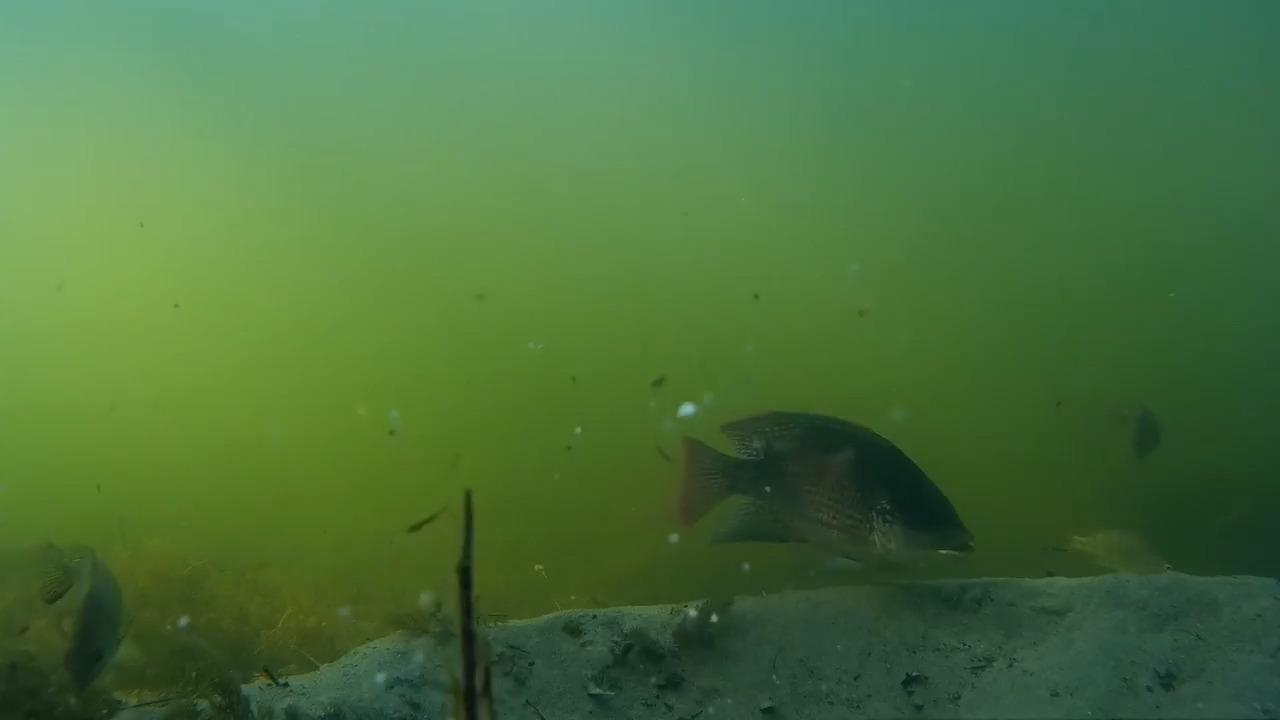Tilapia: (680, 408, 985, 582), (31, 518, 145, 684), (1042, 524, 1199, 606)
